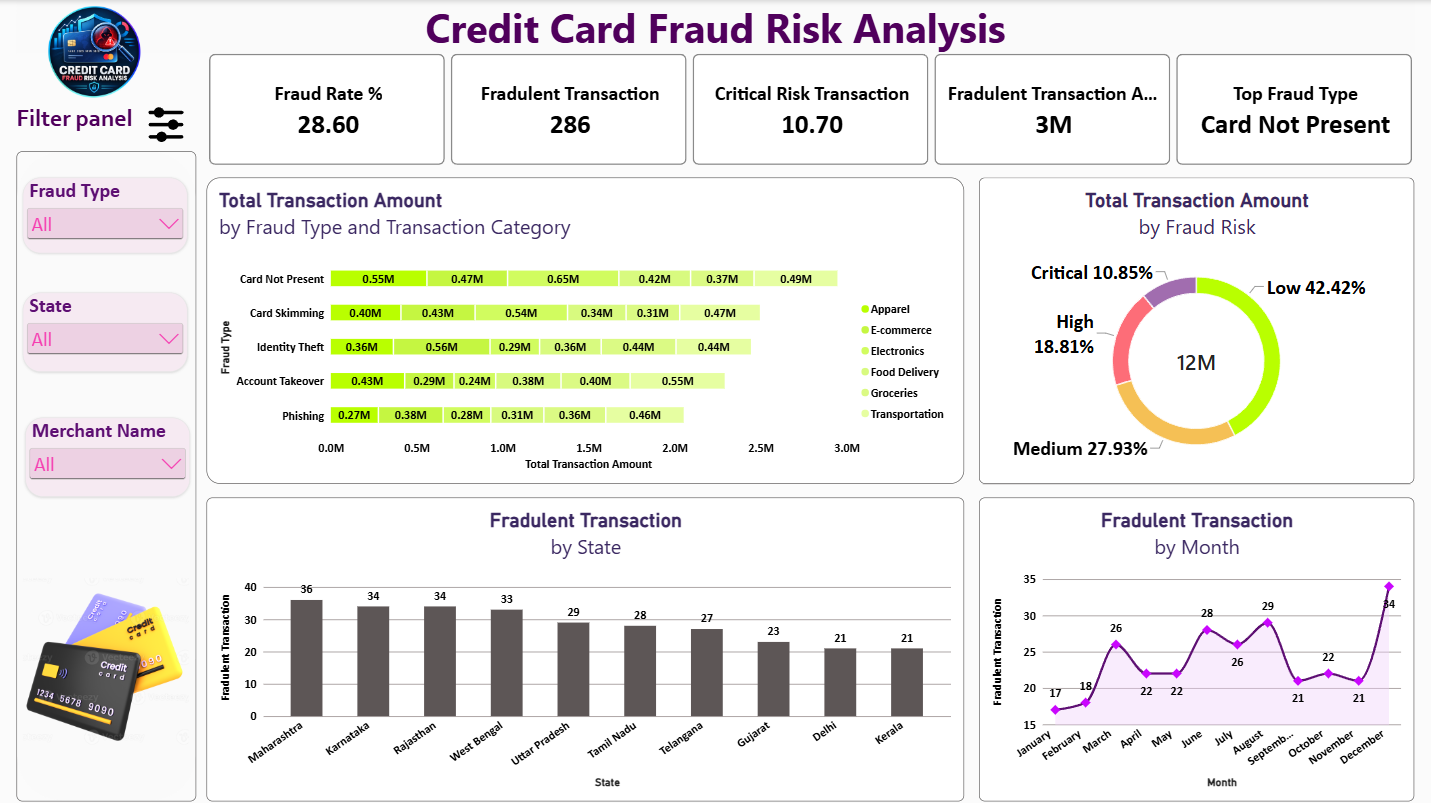

The page's visual inventory and layout, read from the dashboard file:
{"tool":"powerbi","page":{"name":"Page 1","canvas":[1920,1080],"ordinal":0},"visuals":[{"type":"shape","box":[23.4,0,1873.3,71.9],"z":0},{"type":"shape","box":[23.4,202.7,241.2,871],"z":1000},{"type":"textbox","box":[23.4,139,199.3,56.9],"z":2000},{"type":"image","box":[182.6,139,82.2,56.3],"z":3000},{"type":"barChart","fields":{"Category":["Credit Card Fraud Risk Analysis.Fraud Type"],"Series":["Credit Card Fraud Risk Analysis.Transaction Category"],"Y":["Credit Card Fraud Risk Analysis.Total Transaction Amount"]},"box":[278,237.8,1015,410.4],"z":4000},{"type":"donutChart","fields":{"Category":["Credit Card Fraud Risk Analysis.Fraud Risk"],"Y":["Credit Card Fraud Risk Analysis.Total Transaction Amount"]},"box":[1313.2,237.8,582.9,410.4],"z":5000},{"type":"columnChart","fields":{"Category":["Credit Card Fraud Risk Analysis.State"],"Y":["Credit Card Fraud Risk Analysis.Fradulent Transaction"]},"box":[278,666.6,1015,407],"z":6000},{"type":"lineChart","fields":{"Category":["Credit Card Fraud Risk Analysis.Transaction Date.Variation.Date Hierarchy.Month"],"Y":["Credit Card Fraud Risk Analysis.Fradulent Transaction"]},"box":[1313.2,666.6,582.9,407],"z":7000},{"type":"slicer","fields":{"Values":["Credit Card Fraud Risk Analysis.Fraud Type"]},"box":[31.8,237.8,220.7,101.7],"z":8000},{"type":"slicer","fields":{"Values":["Credit Card Fraud Risk Analysis.State"]},"box":[31.8,391.9,220.7,106],"z":9000},{"type":"slicer","fields":{"Values":["Credit Card Fraud Risk Analysis.Merchant Name"]},"box":[35.2,559.4,220.7,106],"z":9001},{"type":"image","box":[31.8,715.2,222.8,341.7],"z":9002},{"type":"cardVisual","fields":{"Data":["Credit Card Fraud Risk Analysis.Fraud Rate %","Credit Card Fraud Risk Analysis.Fradulent Transaction","Credit Card Fraud Risk Analysis.Critical Risk Transaction","Credit Card Fraud Risk Analysis.Fradulent Transaction Amount","Credit Card Fraud Risk Analysis.Top Fraud Type"]},"box":[281.3,71.4,1616.2,149.2],"z":9003},{"type":"image","box":[0,0,256.3,139],"z":9004}]}

Visuals, with their boxes in screenshot pixels (x1, y1, x2, y2), scaled from the page's 1920x1080 canvas onto the 1431x803 screenshot:
shape: (17, 0, 1414, 53)
shape: (17, 151, 197, 798)
textbox: (17, 103, 166, 146)
image: (136, 103, 197, 145)
barChart - Credit Card Fraud Risk Analysis.Fraud Type x Credit Card Fraud Risk Analysis.Transaction Category: (207, 177, 964, 482)
donutChart - Credit Card Fraud Risk Analysis.Fraud Risk x Credit Card Fraud Risk Analysis.Total Transaction Amount: (979, 177, 1413, 482)
columnChart - Credit Card Fraud Risk Analysis.State x Credit Card Fraud Risk Analysis.Fradulent Transaction: (207, 496, 964, 798)
lineChart - Credit Card Fraud Risk Analysis.Transaction Date.Variation.Date Hierarchy.Month x Credit Card Fraud Risk Analysis.Fradulent Transaction: (979, 496, 1413, 798)
slicer - Credit Card Fraud Risk Analysis.Fraud Type: (24, 177, 188, 252)
slicer - Credit Card Fraud Risk Analysis.State: (24, 291, 188, 370)
slicer - Credit Card Fraud Risk Analysis.Merchant Name: (26, 416, 191, 495)
image: (24, 532, 190, 786)
cardVisual - Credit Card Fraud Risk Analysis.Fraud Rate % x Credit Card Fraud Risk Analysis.Fradulent Transaction: (210, 53, 1414, 164)
image: (0, 0, 191, 103)
